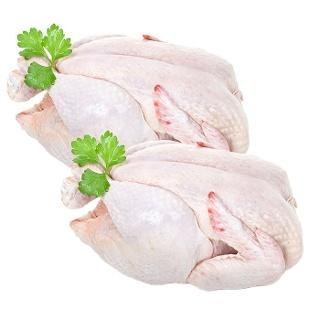chicken: (30, 71, 152, 146), (3, 18, 125, 82)
